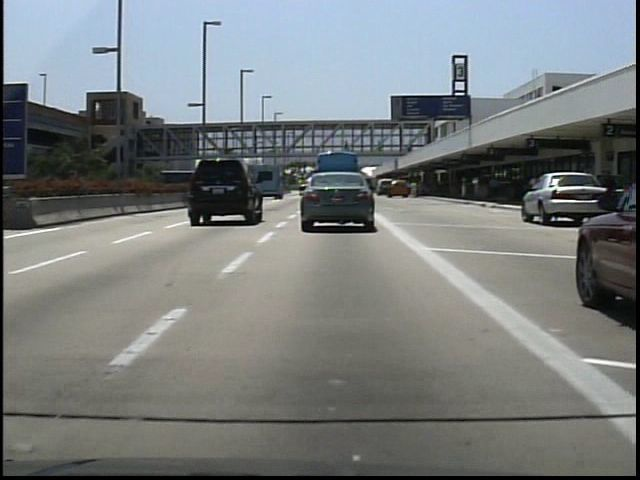person: (525, 170, 542, 210), (487, 172, 504, 204), (406, 177, 421, 204), (375, 136, 388, 158), (340, 136, 353, 156)
